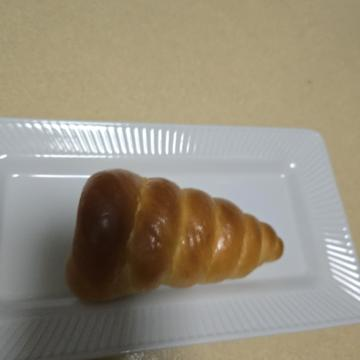cream horn: (147, 65, 332, 308)
